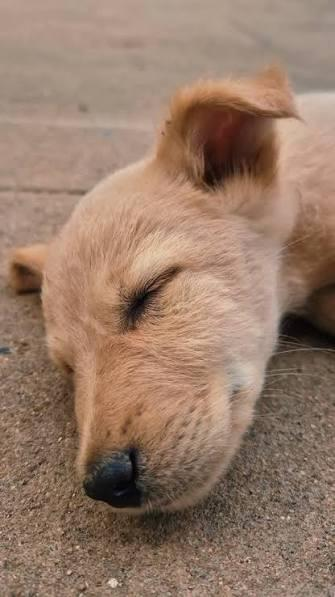puppy-dog: (3, 65, 335, 516)
